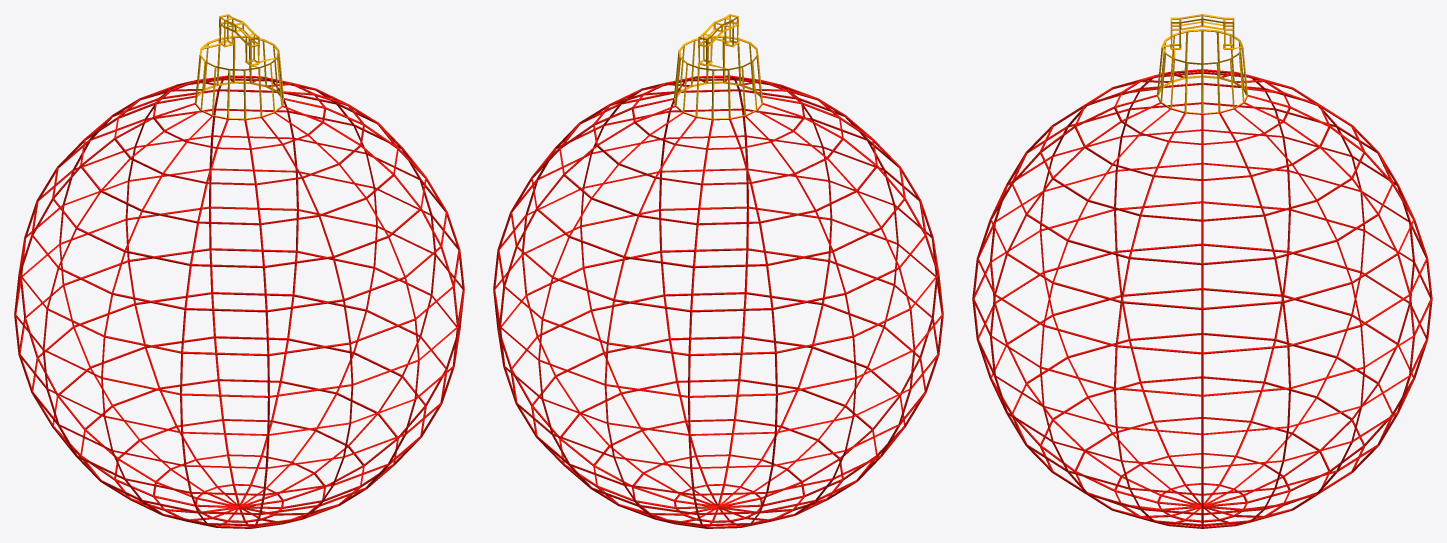
The model's file is BolaNatal.glb.
3 views of the same model, side by side, from view 1: azimuth 30°, elevation 25°; view 2: azimuth 150°, elevation 25°; view 3: azimuth 270°, elevation 25° (orthographic).
Visible parts, largest first — view 1: Sphere; view 2: Sphere; view 3: Sphere.
Part boxes in pixels (x1,y1,x2,y2): Sphere: (14,14,464,528); Sphere: (493,14,943,528); Sphere: (972,14,1432,528).
Bounding box in the file's own units: 2.01 × 2.37 × 2.01.
